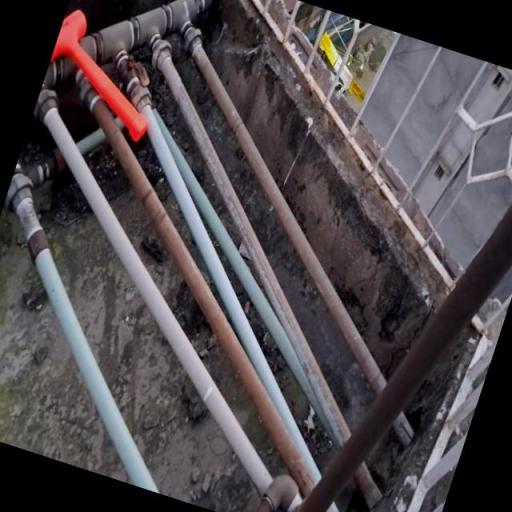mallet: (34, 6, 176, 143)
